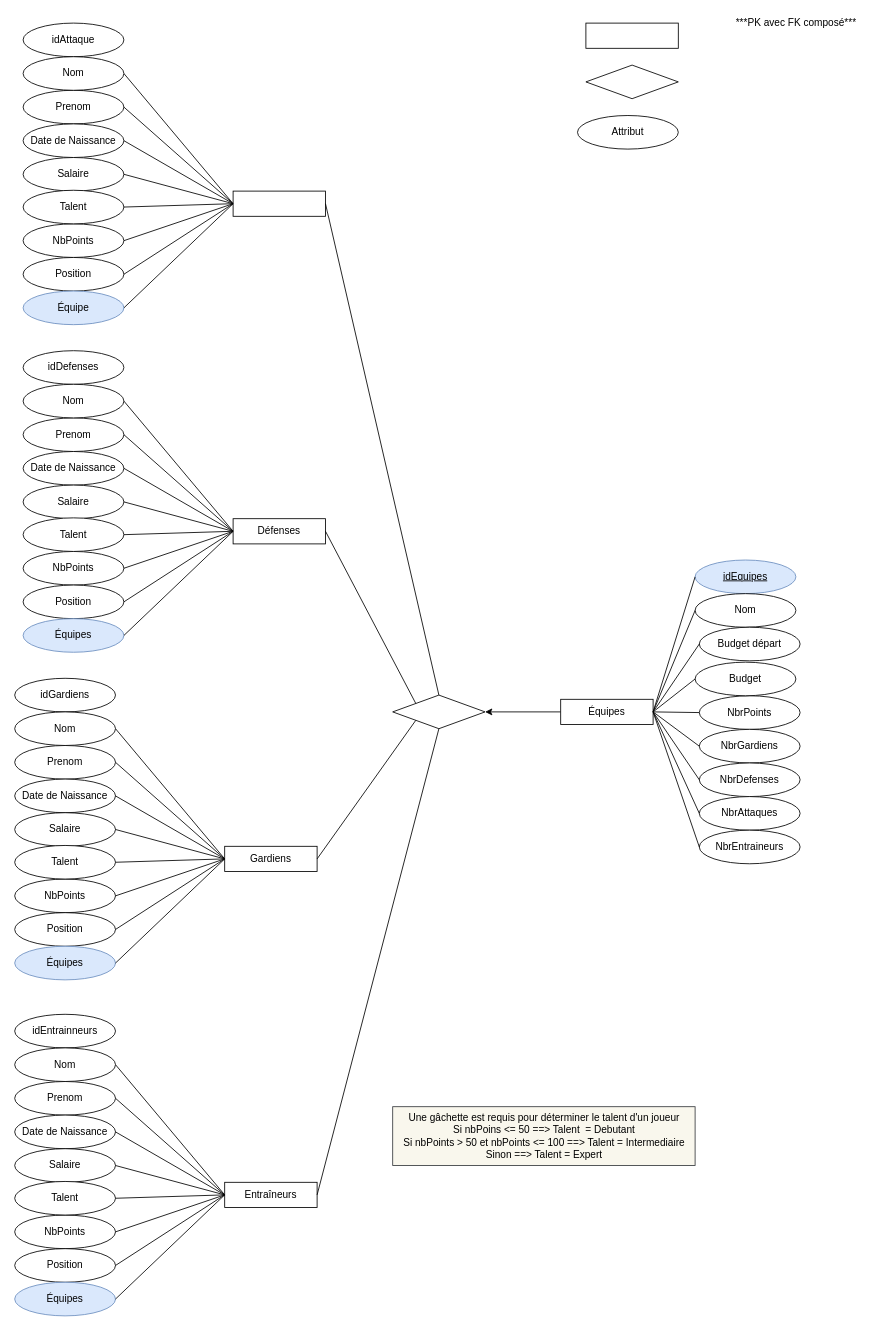
Some shapes in this 878 by 1331 pixel diagram are drawn without their labels. Here are the shapes that lost their labels. From the top down, the centre of each, then its label:
(631,35): Entitié
(631,81): Relation
(279,203): Attaques
(438,711): Jouer
